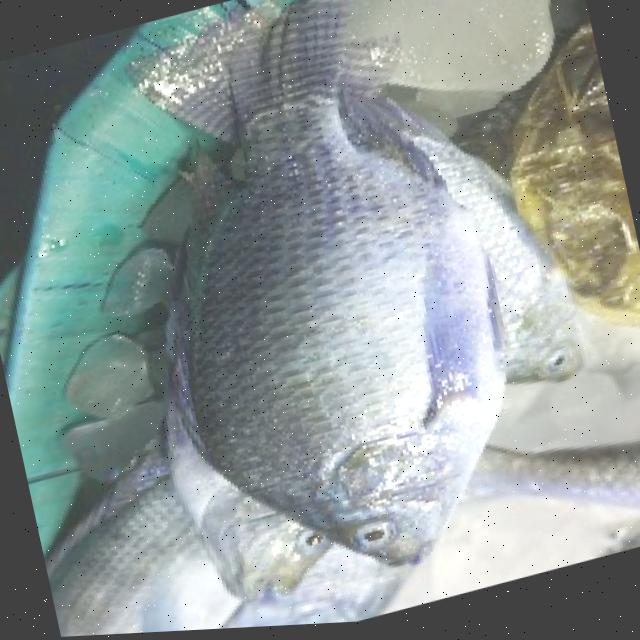Fresh: (178, 20, 564, 613)
